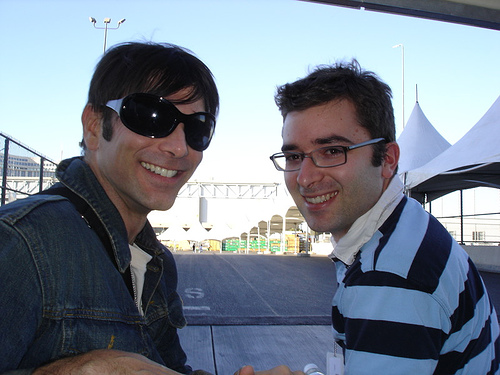without_mask: (88, 74, 214, 215), (275, 106, 405, 235)
